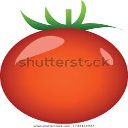tomato: (1, 28, 128, 124)
